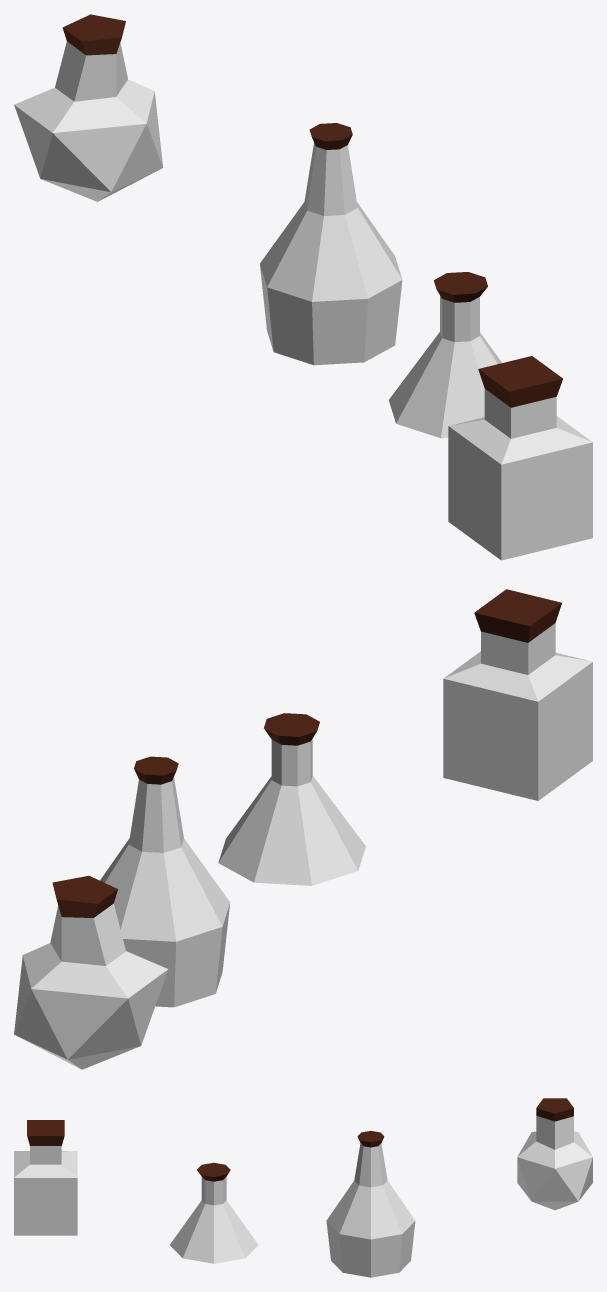
Rendered from Potions.fbx.
The picture shows the model from 3 angles, top to bottom: view 1: azimuth 30°, elevation 25°; view 2: azimuth 150°, elevation 25°; view 3: azimuth 270°, elevation 25°; orthographic projection. The views are drawn at different scales.
Visible parts, largest first — view 1: Cube, Cylinder, Icosphere, Cone; view 2: Cube, Icosphere, Cylinder, Cone; view 3: Cylinder, Cube, Icosphere, Cone.
Boxes of the visible parts, bbox=[...] form: Cube: bbox=[448, 356, 592, 560]; Cylinder: bbox=[260, 123, 402, 365]; Icosphere: bbox=[14, 14, 163, 201]; Cone: bbox=[388, 272, 501, 438]; Cube: bbox=[443, 589, 592, 800]; Icosphere: bbox=[14, 875, 168, 1069]; Cylinder: bbox=[100, 756, 229, 1007]; Cone: bbox=[218, 713, 365, 885]; Cylinder: bbox=[326, 1131, 415, 1277]; Cube: bbox=[14, 1120, 77, 1235]; Icosphere: bbox=[517, 1098, 592, 1210]; Cone: bbox=[170, 1162, 258, 1263].
Bounding box in the file's own units: 163 × 163 × 650.
